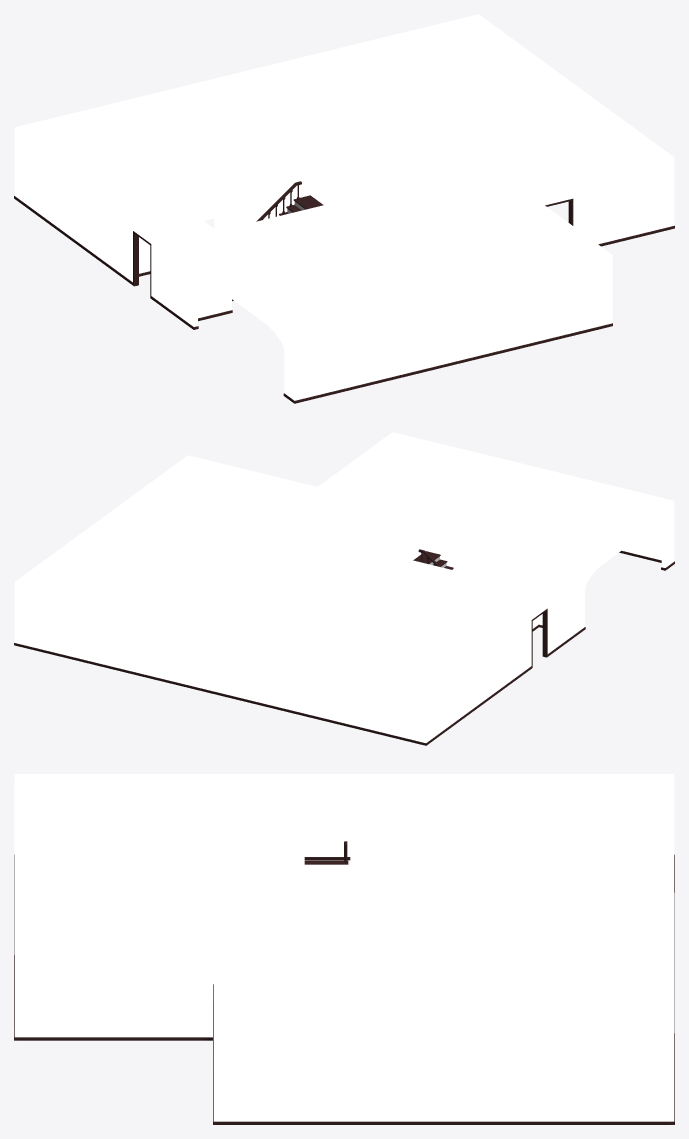
The model's file is LVL_House1_Stage1.gltf.
3 renders of one model, top to bottom at view 1: azimuth 30°, elevation 25°; view 2: azimuth 150°, elevation 25°; view 3: azimuth 270°, elevation 25°, orthographic. The views are drawn at different scales.
Parts seen in each view (by area): view 1: Plane.002, SM_Wall_Inner_40dm_01 (×5), SM_Wall_Inner_80dm_01, SM_Wall_Inner_20dm_01 (×2), SM_Wall_Inner_LCorner_01_mesh (×3), SM_Wall_Inner_20dm_Door_01 (×2), SM_Wall_Inner_TCorner_01_mesh (×2), SM_Wall_Inner_80dm_Arch_01, SM_Wall_Inner_10dm_01; view 2: Plane.002, SM_Wall_Inner_80dm_01 (×4), SM_Wall_Inner_40dm_01 (×3), SM_Wall_Inner_TCorner_01_mesh (×3), SM_Wall_Inner_LCorner_01_mesh (×2), SM_Wall_Inner_20dm_01, SM_Wall_Inner_80dm_Arch_01, SM_Wall_Inner_20dm_Door_01; view 3: Plane.002, SM_Wall_Inner_40dm_01 (×2), SM_Wall_Inner_80dm_01, SM_Wall_Inner_20dm_01 (×3), SM_Wall_Inner_LCorner_01_mesh (×3), SM_Wall_Inner_TCorner_01_mesh (×2).
Boxes of the visible parts, left/top/right/bottom form: Plane.002: left=14, top=14, right=674, bottom=337; SM_Wall_Inner_40dm_01 (×5): left=21, top=138, right=661, bottom=349; SM_Wall_Inner_80dm_01: left=307, top=294, right=474, bottom=400; SM_Wall_Inner_20dm_01 (×2): left=154, top=236, right=516, bottom=359; SM_Wall_Inner_LCorner_01_mesh (×3): left=287, top=163, right=674, bottom=403; SM_Wall_Inner_20dm_Door_01 (×2): left=130, top=186, right=578, bottom=300; SM_Wall_Inner_TCorner_01_mesh (×2): left=118, top=209, right=198, bottom=326; SM_Wall_Inner_80dm_Arch_01: left=190, top=262, right=287, bottom=397; SM_Wall_Inner_10dm_01: left=198, top=280, right=219, bottom=320; Plane.002: left=14, top=432, right=674, bottom=687; SM_Wall_Inner_80dm_01 (×4): left=25, top=526, right=661, bottom=742; SM_Wall_Inner_40dm_01 (×3): left=173, top=620, right=518, bottom=740; SM_Wall_Inner_TCorner_01_mesh (×3): left=248, top=573, right=582, bottom=706; SM_Wall_Inner_LCorner_01_mesh (×2): left=14, top=587, right=432, bottom=745; SM_Wall_Inner_20dm_01: left=550, top=581, right=571, bottom=654; SM_Wall_Inner_80dm_Arch_01: left=582, top=510, right=668, bottom=630; SM_Wall_Inner_20dm_Door_01: left=529, top=597, right=550, bottom=669; Plane.002: left=14, top=774, right=674, bottom=1047; SM_Wall_Inner_40dm_01 (×2): left=88, top=963, right=600, bottom=1124; SM_Wall_Inner_80dm_01: left=230, top=1047, right=458, bottom=1124; SM_Wall_Inner_20dm_01 (×3): left=31, top=807, right=657, bottom=1124; SM_Wall_Inner_LCorner_01_mesh (×3): left=14, top=963, right=674, bottom=1124; SM_Wall_Inner_TCorner_01_mesh (×2): left=202, top=963, right=486, bottom=1124.
Size of the model in its own units: 22.24 by 3.8 by 23.24.
